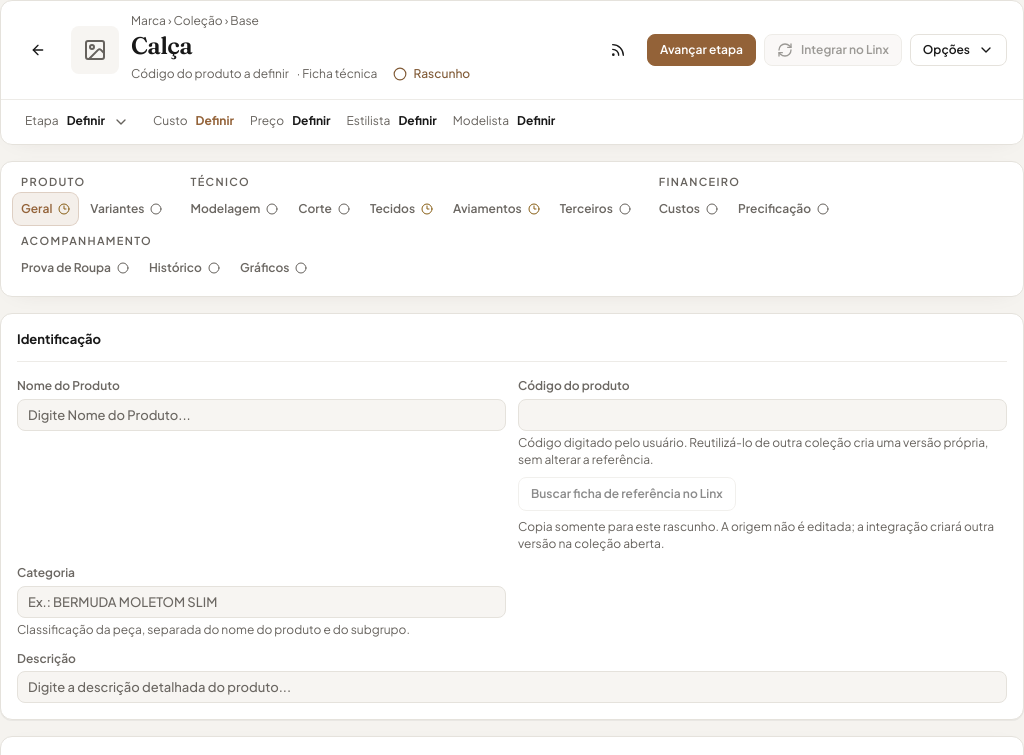
Scenario: Tabela de quantidades da aba Corte › usa a cor de mostruário de fichas antigas e mantém as edições abertas se o salvamento falhar
The width and height of the screenshot is (1024, 755).
Click the button "Corte" at x=324, y=209, box 290,193 -> 358,225
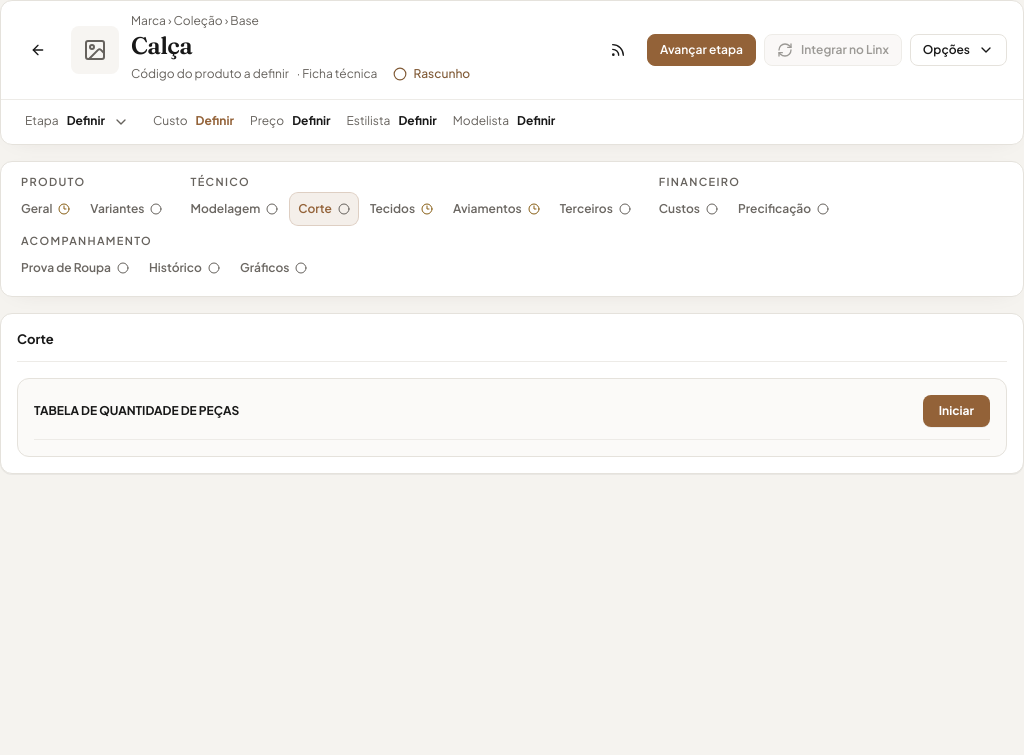
Click the button "Iniciar" at x=956, y=411, box 923,395 -> 990,427
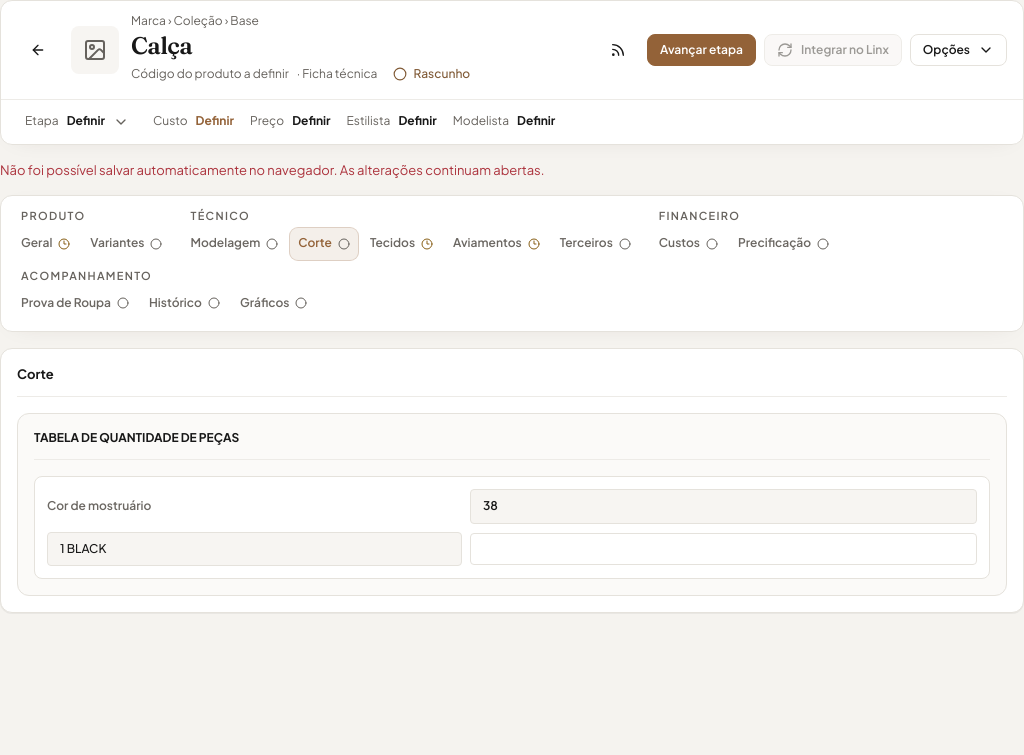
Type "4" into the field named "Quantidade de 1 BLACK no tamanho 38" at x=723, y=549, box 470,533 -> 977,565
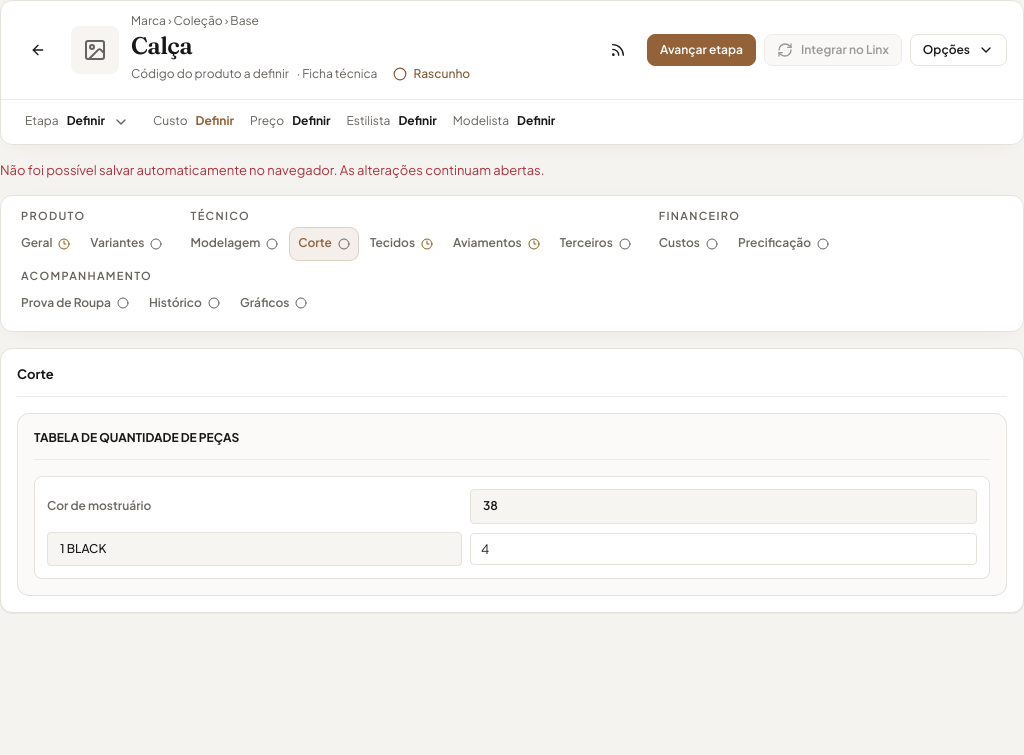
Leave the element "Ficha técnica"
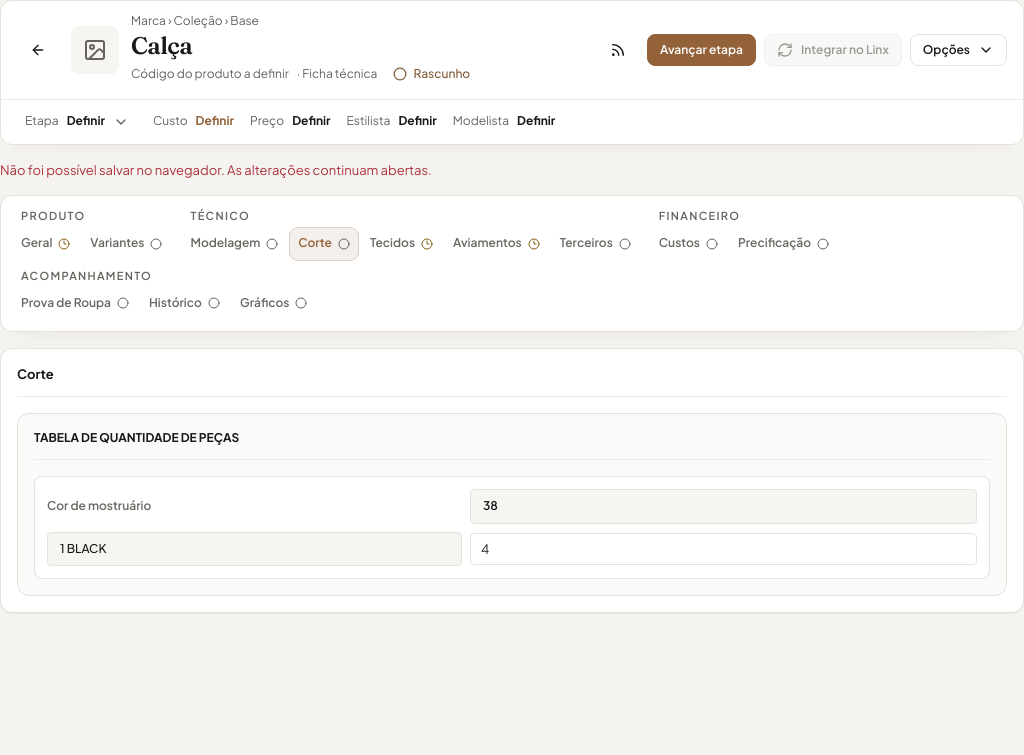
Expected: the text "Não foi possível salvar no navegador. As alterações continuam abertas." is shown, 0,162 -> 432,178
